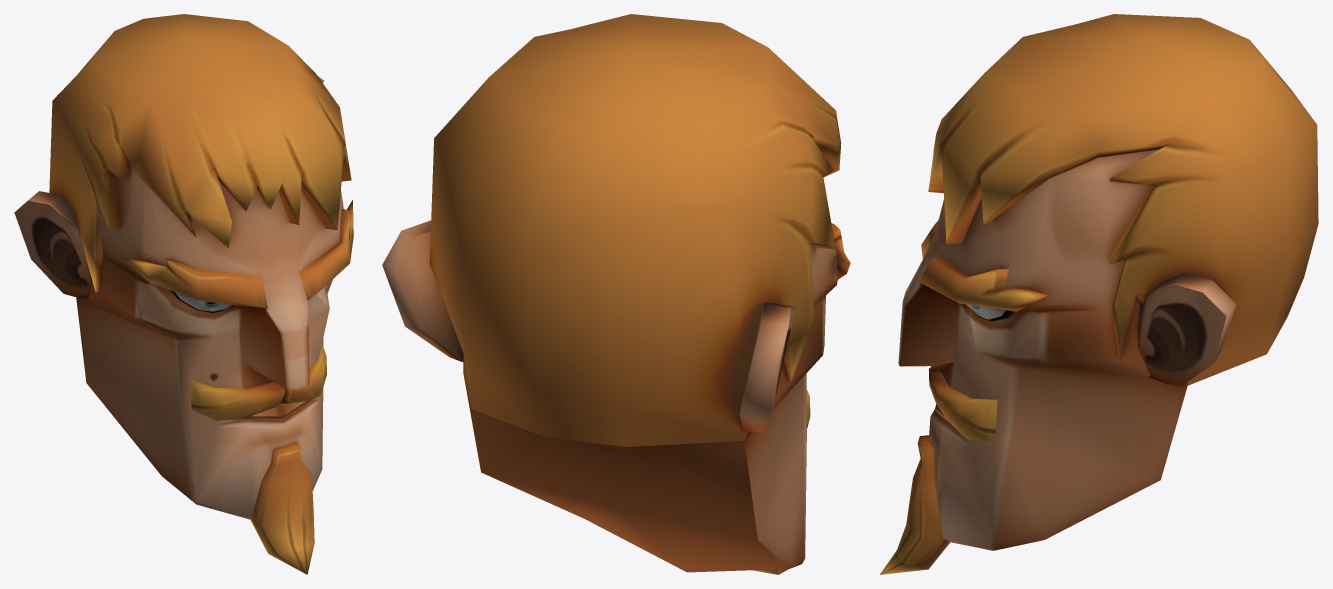
Rendered from IT_PLY_ST_0009_JohnDoe_9.FBX.
3 views of the same model, side by side, from view 1: azimuth 30°, elevation 25°; view 2: azimuth 150°, elevation 25°; view 3: azimuth 270°, elevation 25° (orthographic). The views are drawn at different scales.
Parts seen in each view (by area): view 1: IT_PLY_ST_0009_JohnDoe_9; view 2: IT_PLY_ST_0009_JohnDoe_9; view 3: IT_PLY_ST_0009_JohnDoe_9.
Boxes of the visible parts, left/top/right/bottom form: IT_PLY_ST_0009_JohnDoe_9: left=14, top=14, right=353, bottom=574; IT_PLY_ST_0009_JohnDoe_9: left=382, top=14, right=850, bottom=574; IT_PLY_ST_0009_JohnDoe_9: left=879, top=14, right=1318, bottom=574.
Size of the model in its own units: 23.05 by 34.71 by 25.71.
